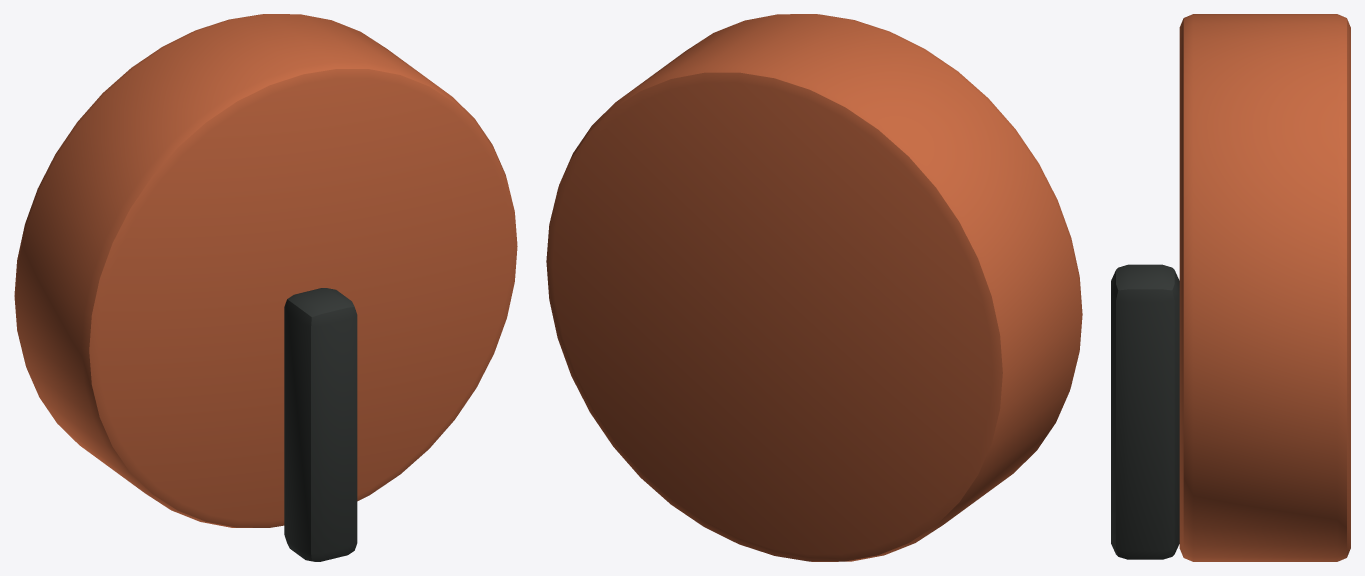
The model's file is induction_heater_power_dial.glb.
3 views of the same model, side by side, from view 1: azimuth 30°, elevation 25°; view 2: azimuth 150°, elevation 25°; view 3: azimuth 270°, elevation 25° (orthographic). The views are drawn at different scales.
Parts seen in each view (by area): view 1: induction_heater_power_dial; view 2: induction_heater_power_dial; view 3: induction_heater_power_dial.
Boxes of the visible parts, <box> form: induction_heater_power_dial: <box>14,14,517,561</box>; induction_heater_power_dial: <box>546,14,1082,561</box>; induction_heater_power_dial: <box>1111,14,1350,561</box>.
Bounding box in the file's own units: 0.032 × 0.033 × 0.014.
